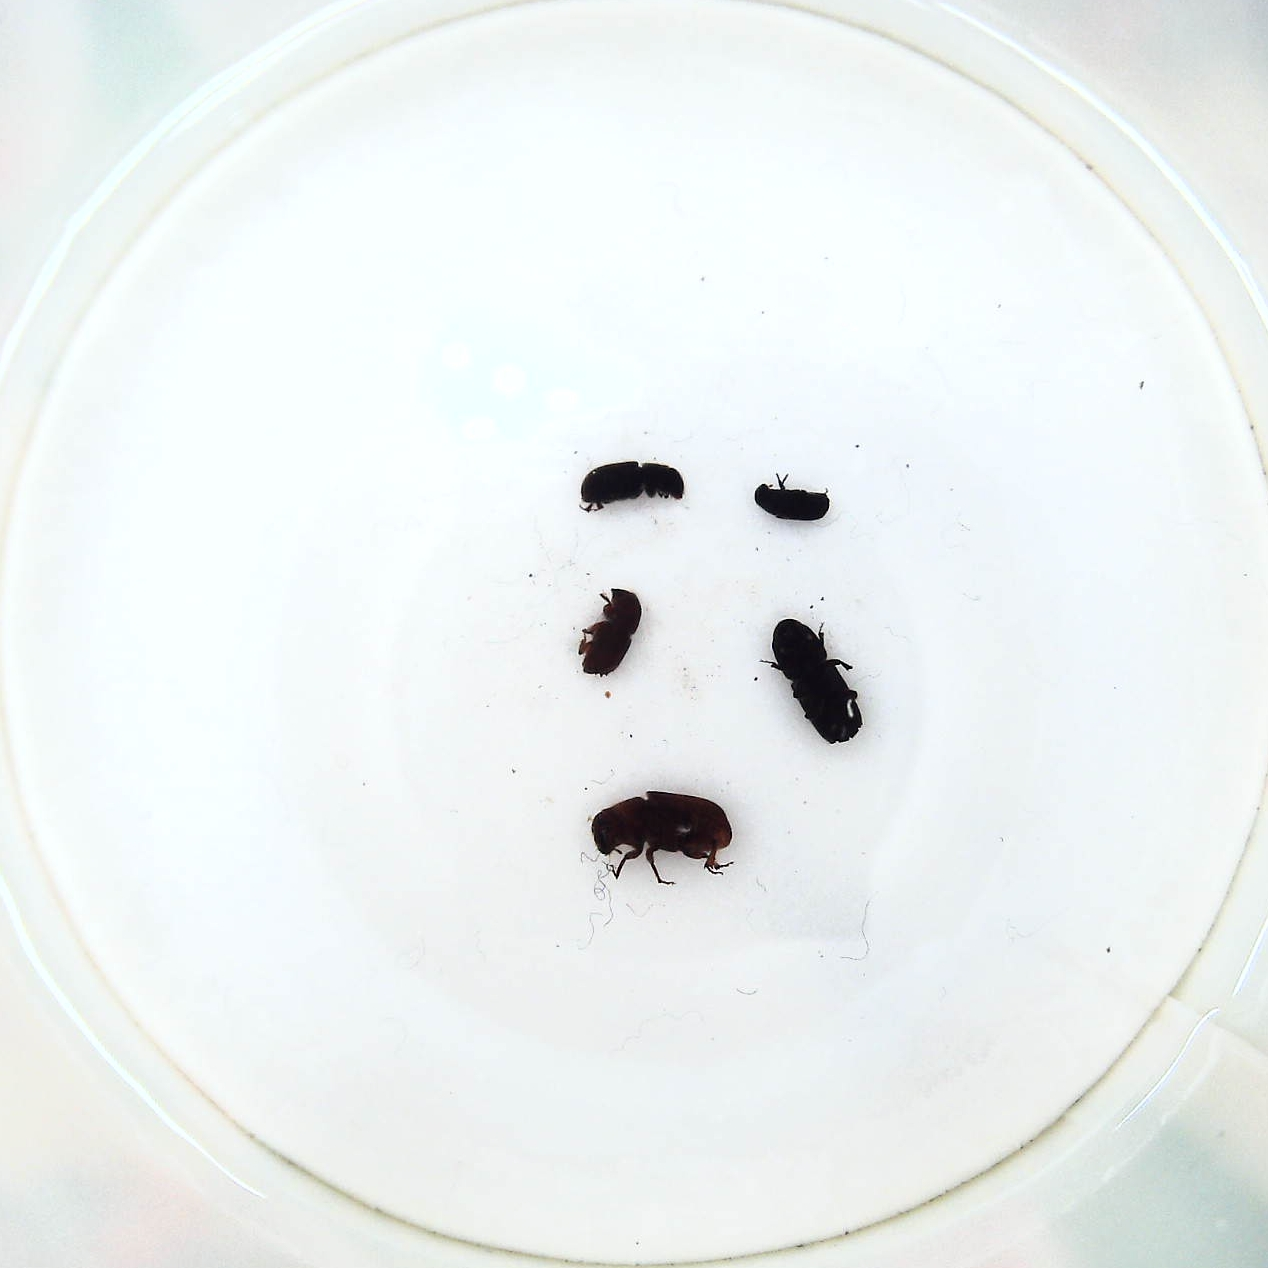Boerner: (768, 610, 870, 752)
Leconte: (592, 783, 739, 888)
armandi: (577, 458, 690, 518)
coleoptera: (752, 474, 836, 527)
linnaeus: (570, 581, 646, 680)
